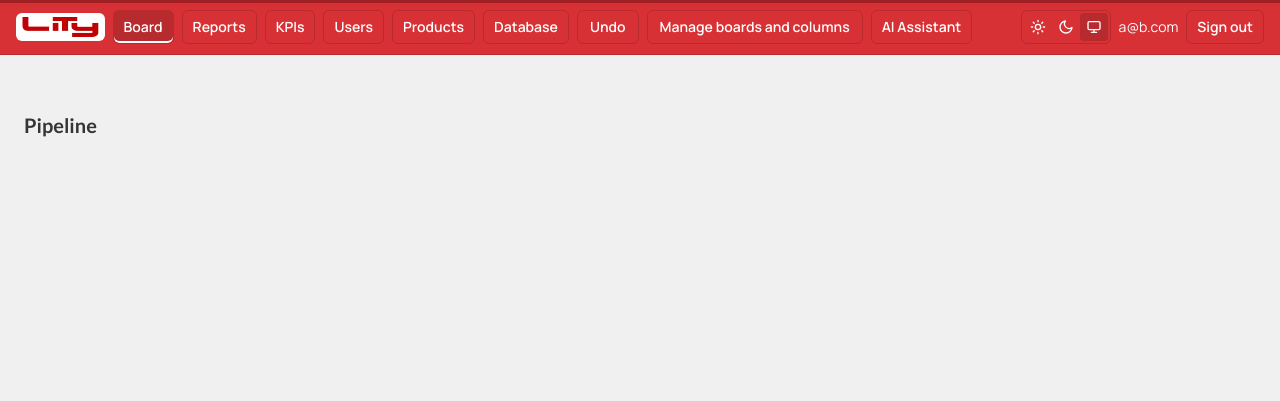
Test: CentralApp sections › opens Users from the top navigation for the Super Admin, with the invitation form, and returns to the board
Expected: the element with test id "central-board" is shown, [24,113,97,137]
Click the button "Users" at (354, 27), box [324,10,384,44]
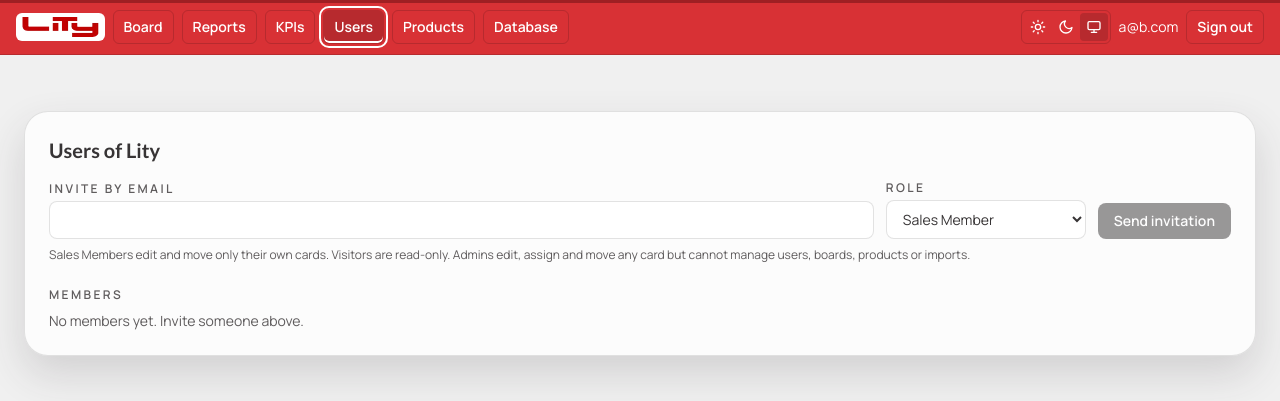
Result: the heading "Users of Lity" is shown at [49,138,160,162]
Result: the element with test id "central-board" is gone
Click the button "Board" at (143, 27), box [112,10,174,44]
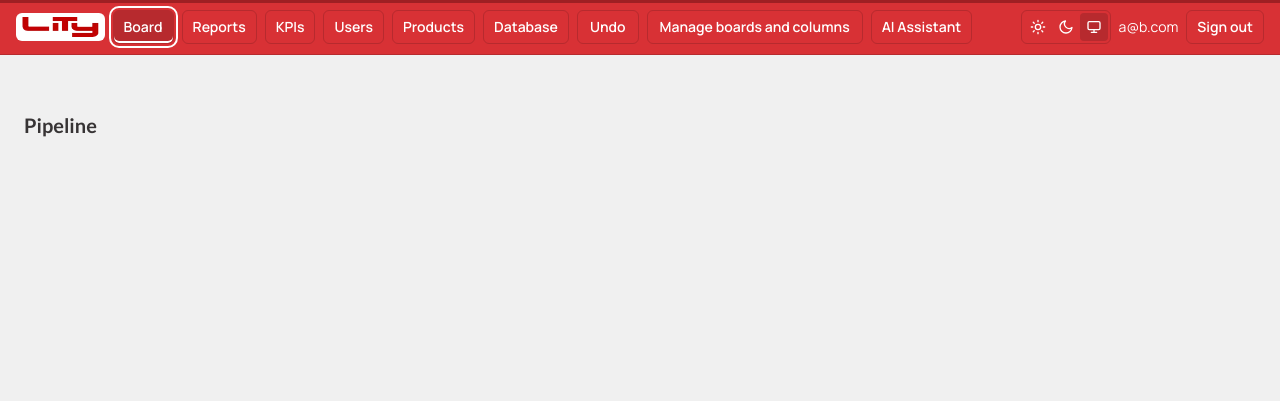
Result: the element with test id "central-board" is shown at [24,113,97,137]
Result: the heading "Users of" is gone
